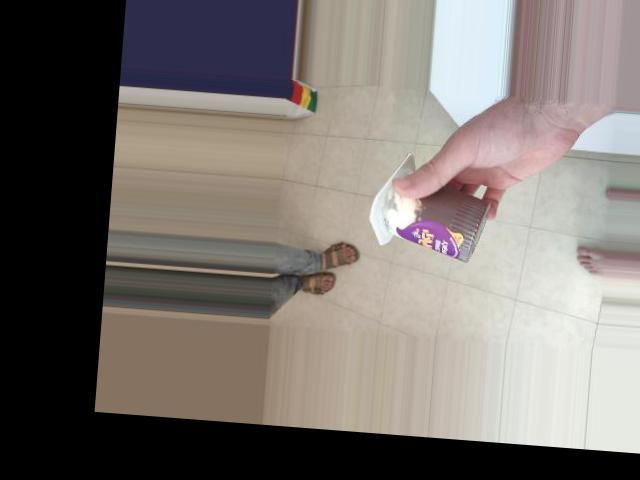milky: (372, 175, 488, 262)
